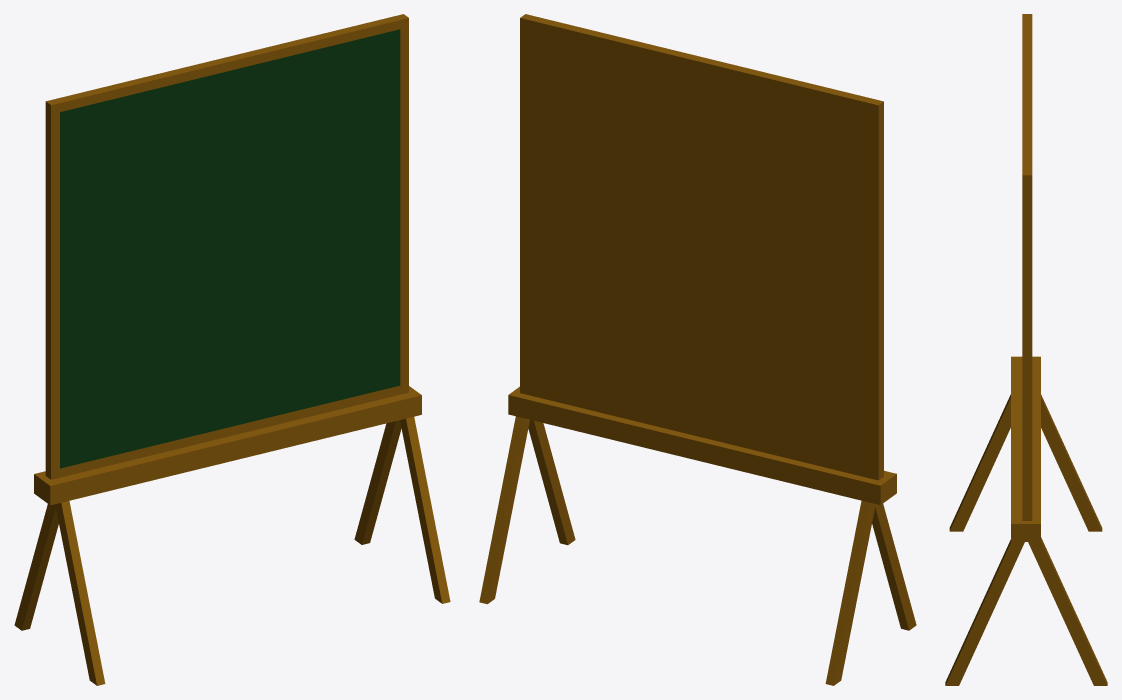
Rendered from board-color.fbx.
The picture shows the model from 3 angles, left to right: view 1: azimuth 30°, elevation 25°; view 2: azimuth 150°, elevation 25°; view 3: azimuth 270°, elevation 25°; orthographic projection. The views are drawn at different scales.
Parts seen in each view (by area): view 1: Cube.002; view 2: Cube.002; view 3: Cube.002.
Boxes of the visible parts, x1,y1,x2,y2 form: Cube.002: [14, 14, 450, 685]; Cube.002: [479, 14, 916, 685]; Cube.002: [945, 14, 1107, 685].
Size of the model in its own units: 675 by 961 by 277.
1 material, 1 textured.
